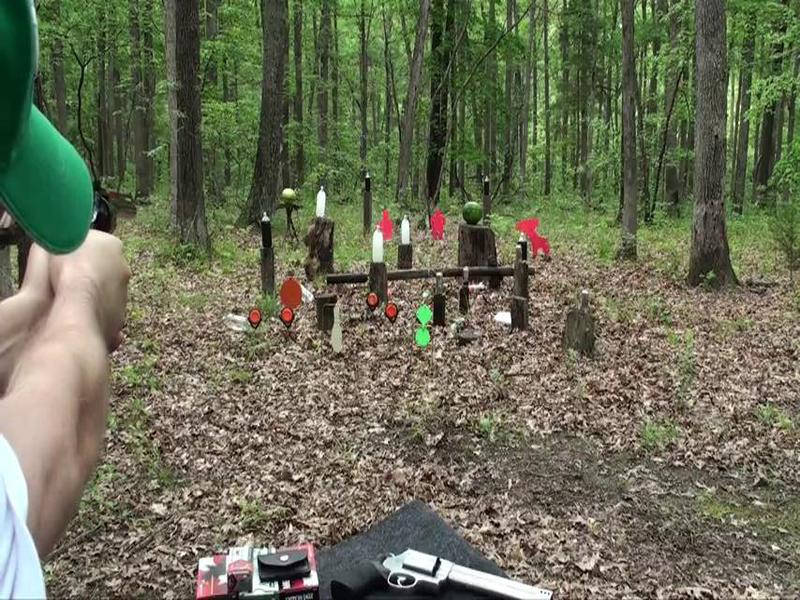Revolver: (78, 178, 153, 258)
